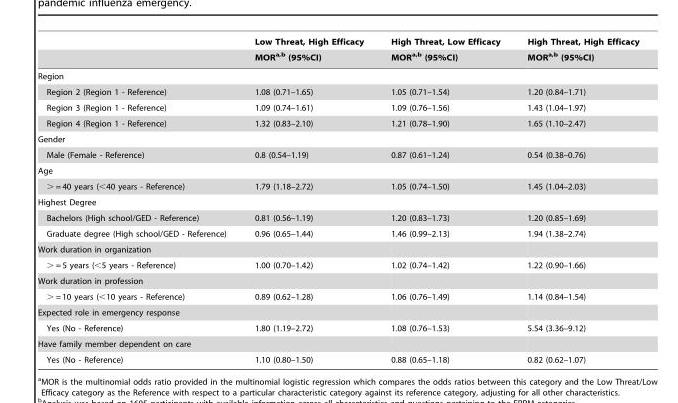table: (37, 37, 638, 363)
table column: (37, 37, 239, 363), (239, 37, 376, 363), (376, 37, 513, 363), (513, 37, 638, 363)
table column header: (37, 37, 638, 66)
table projected row header: (37, 66, 638, 83), (37, 162, 638, 178), (37, 241, 638, 257), (37, 272, 638, 288), (37, 304, 638, 320), (37, 335, 638, 351), (37, 131, 638, 146), (37, 194, 638, 209)
table row: (37, 48, 638, 66), (37, 66, 638, 83), (37, 83, 638, 99), (37, 99, 638, 115), (37, 115, 638, 131), (37, 146, 638, 162), (37, 162, 638, 178), (37, 178, 638, 194), (37, 209, 638, 225), (37, 225, 638, 241), (37, 241, 638, 257), (37, 272, 638, 288), (37, 288, 638, 304), (37, 304, 638, 320), (37, 335, 638, 351), (37, 131, 638, 146), (37, 194, 638, 209), (37, 257, 638, 272), (37, 320, 638, 335), (37, 351, 638, 363), (37, 37, 638, 48)
table spanning cell: (239, 37, 376, 66), (376, 37, 513, 66), (513, 37, 638, 66)
